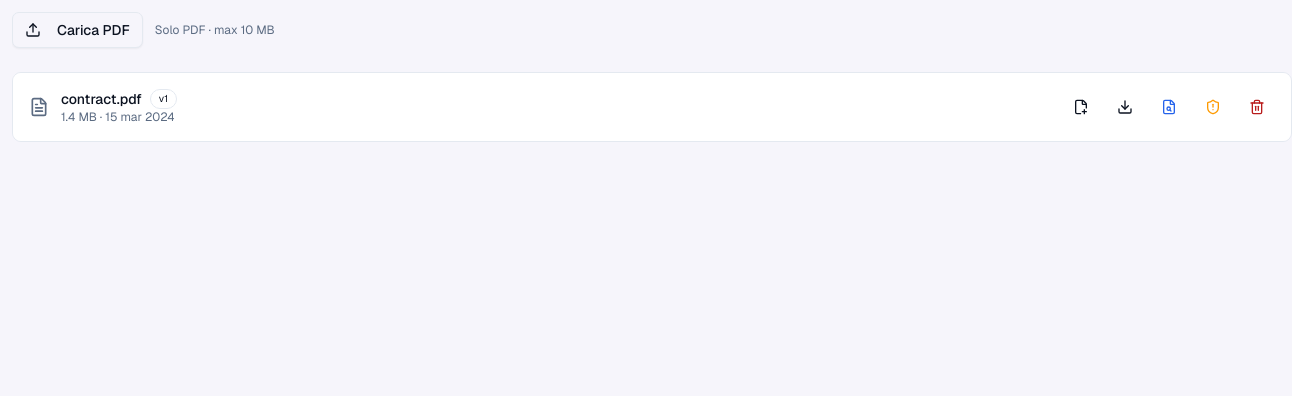
Test: DocumentsTab › shows "Not detected" for null analysis fields
The image size is (1292, 396).
Click the button titled "Estrai campi".
click(1169, 107)  # box [1151,91,1187,123]
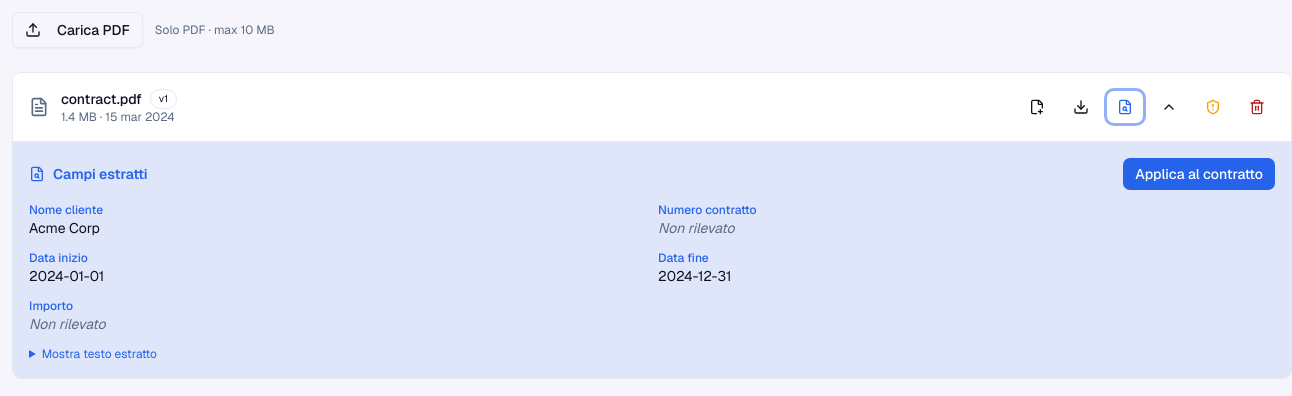
Expected: the text "Non rilevato" below "Numero contratto" is shown, [658,219,735,237]
